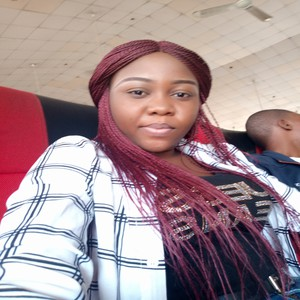Fulokoja_female_student: (101, 46, 218, 271)
